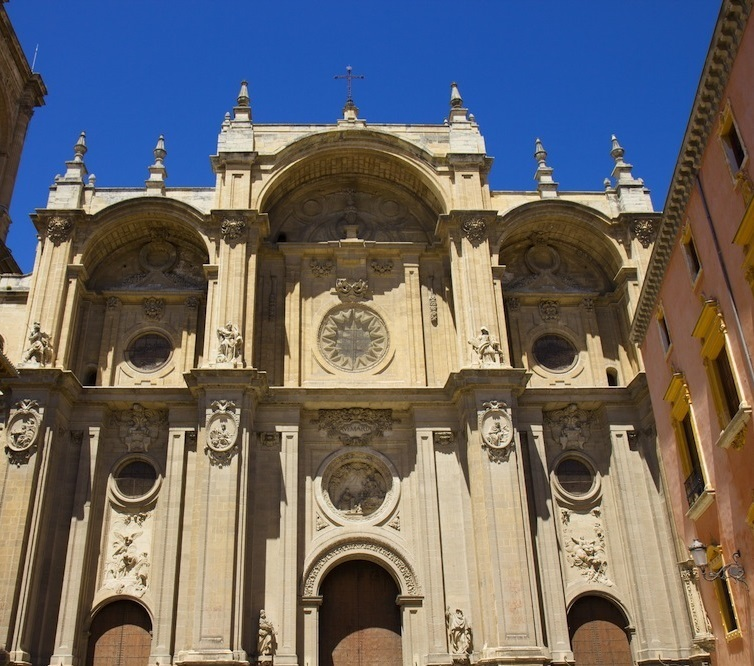arco-medio-punto: (251, 124, 461, 246), (488, 194, 639, 287), (69, 195, 214, 285), (301, 531, 422, 617), (563, 585, 638, 638), (83, 593, 158, 645)
ojo-de-buey: (546, 449, 602, 501), (118, 325, 175, 375), (107, 452, 159, 504), (527, 327, 581, 376)
